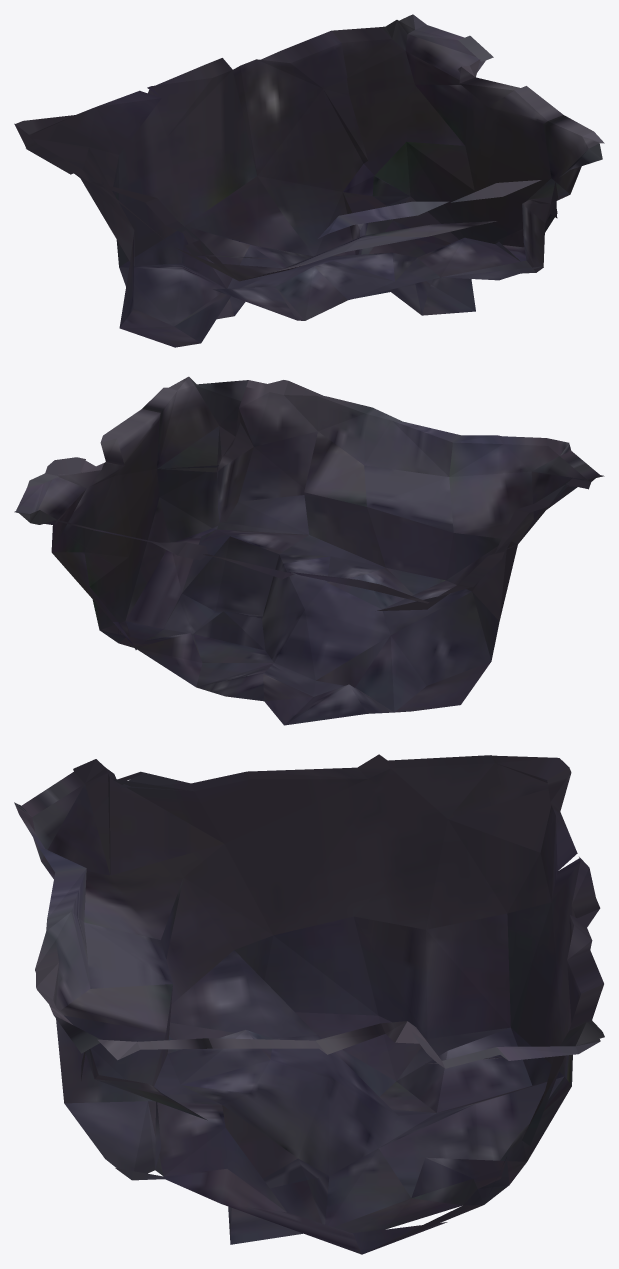
3 views of the same model, one above another, from view 1: azimuth 30°, elevation 25°; view 2: azimuth 150°, elevation 25°; view 3: azimuth 270°, elevation 25° (orthographic). The views are drawn at different scales.
Parts seen in each view (by area): view 1: Mesh_0; view 2: Mesh_0; view 3: Mesh_0.
Part boxes in pixels (box(x1,y1,x2,y2)): Mesh_0: box(14, 14, 604, 347); Mesh_0: box(14, 376, 604, 725); Mesh_0: box(14, 754, 604, 1254).
Size of the model in its own units: 15.92 by 6.3 by 13.04.
Materials: 1 (1 with a texture image).
